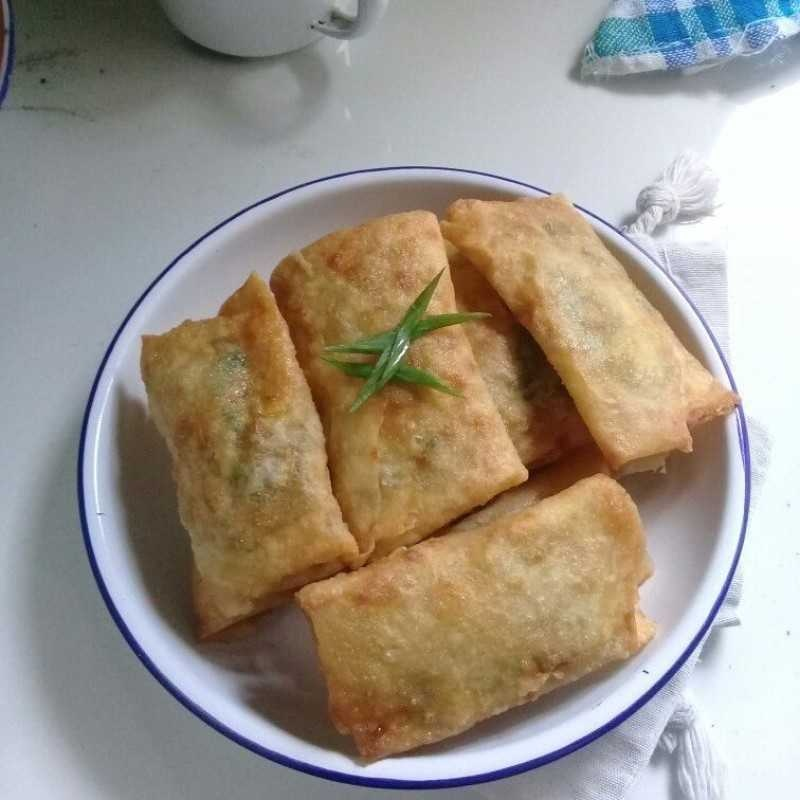martabak: (141, 190, 742, 772)
